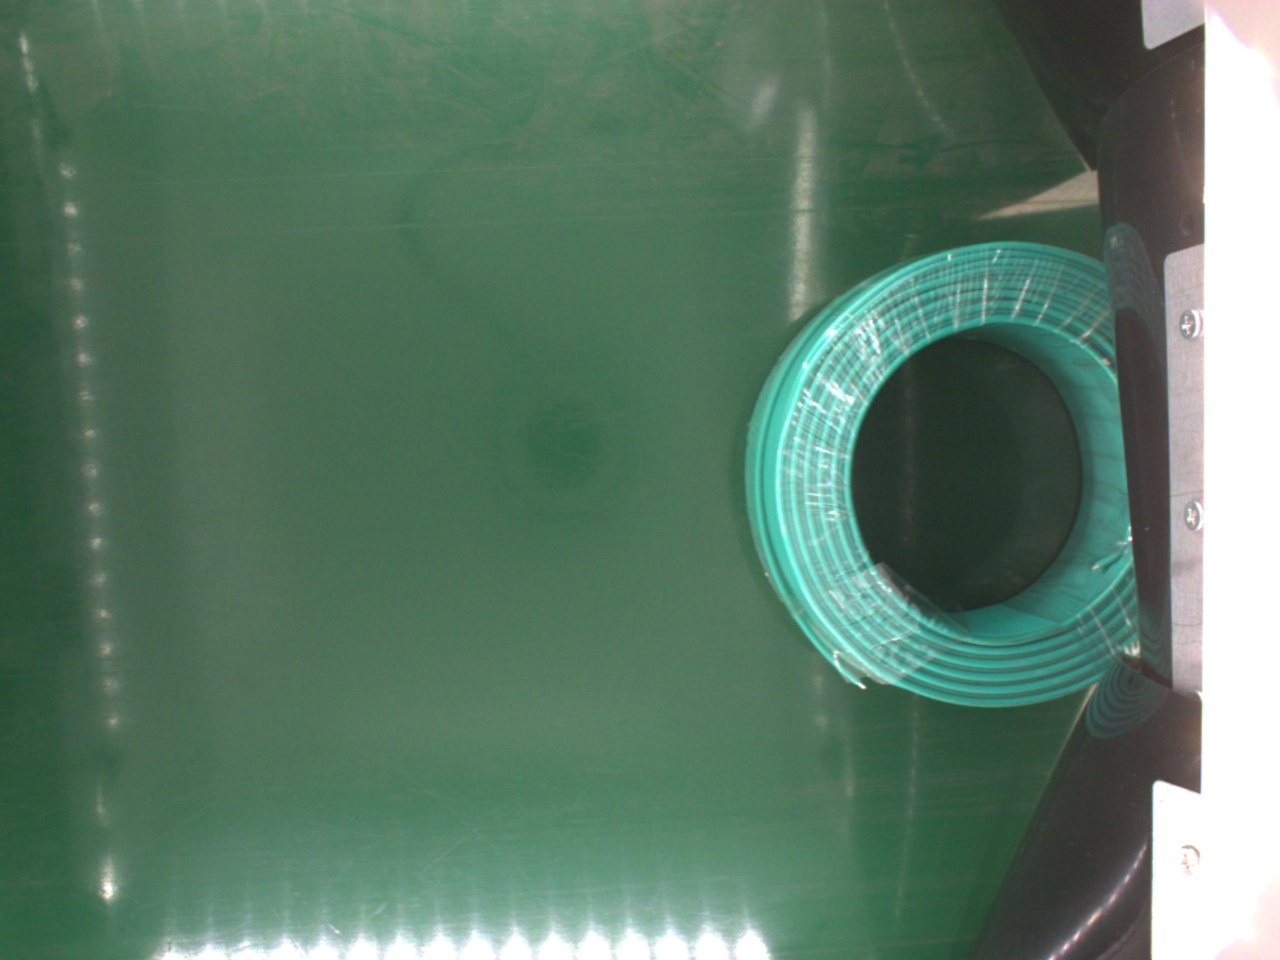green: (740, 236, 1151, 716)
